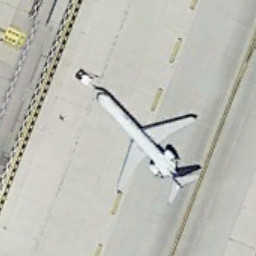Airplane: (75, 70, 207, 217)
